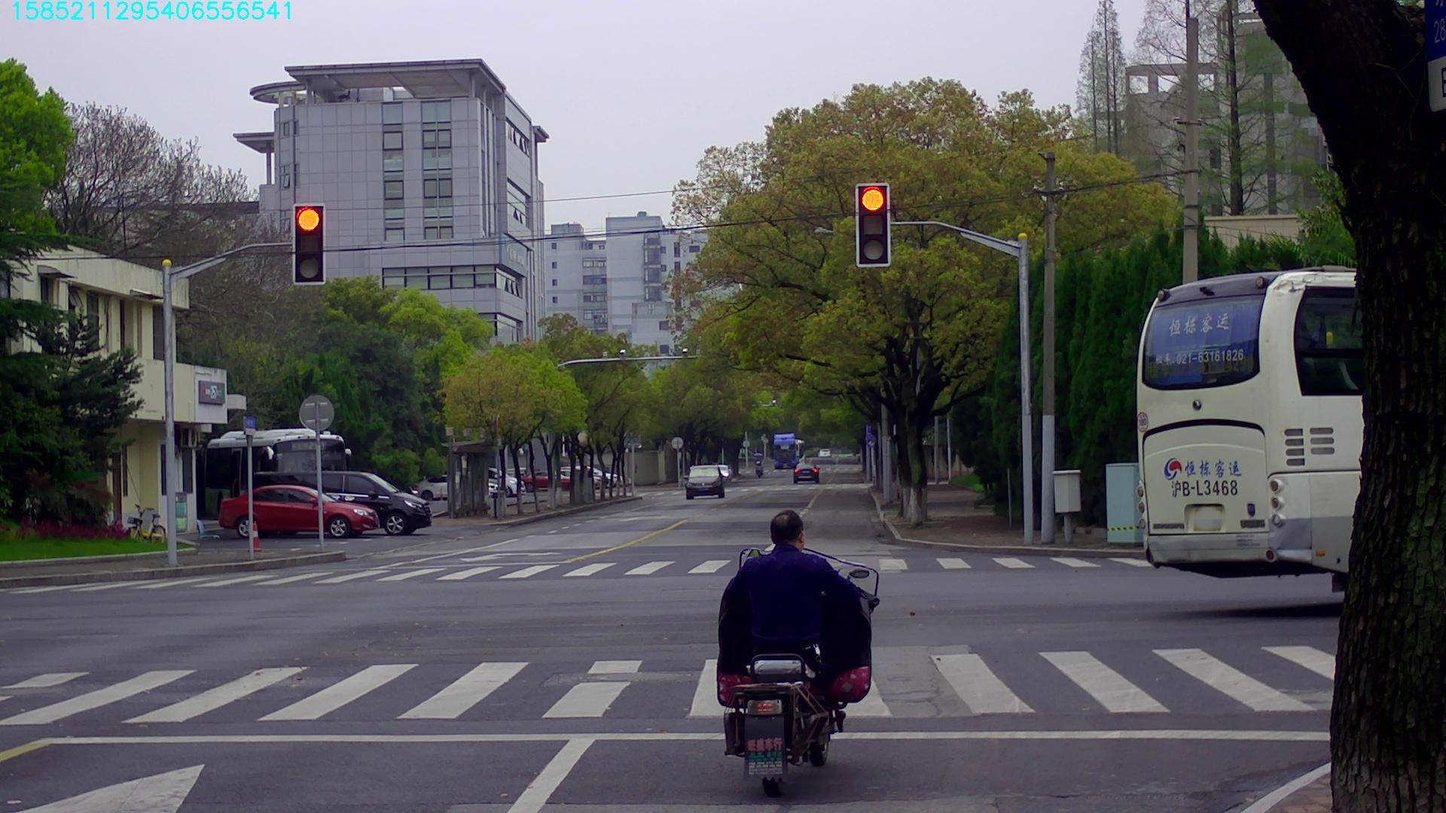red: (856, 183, 889, 264), (294, 204, 323, 283)
